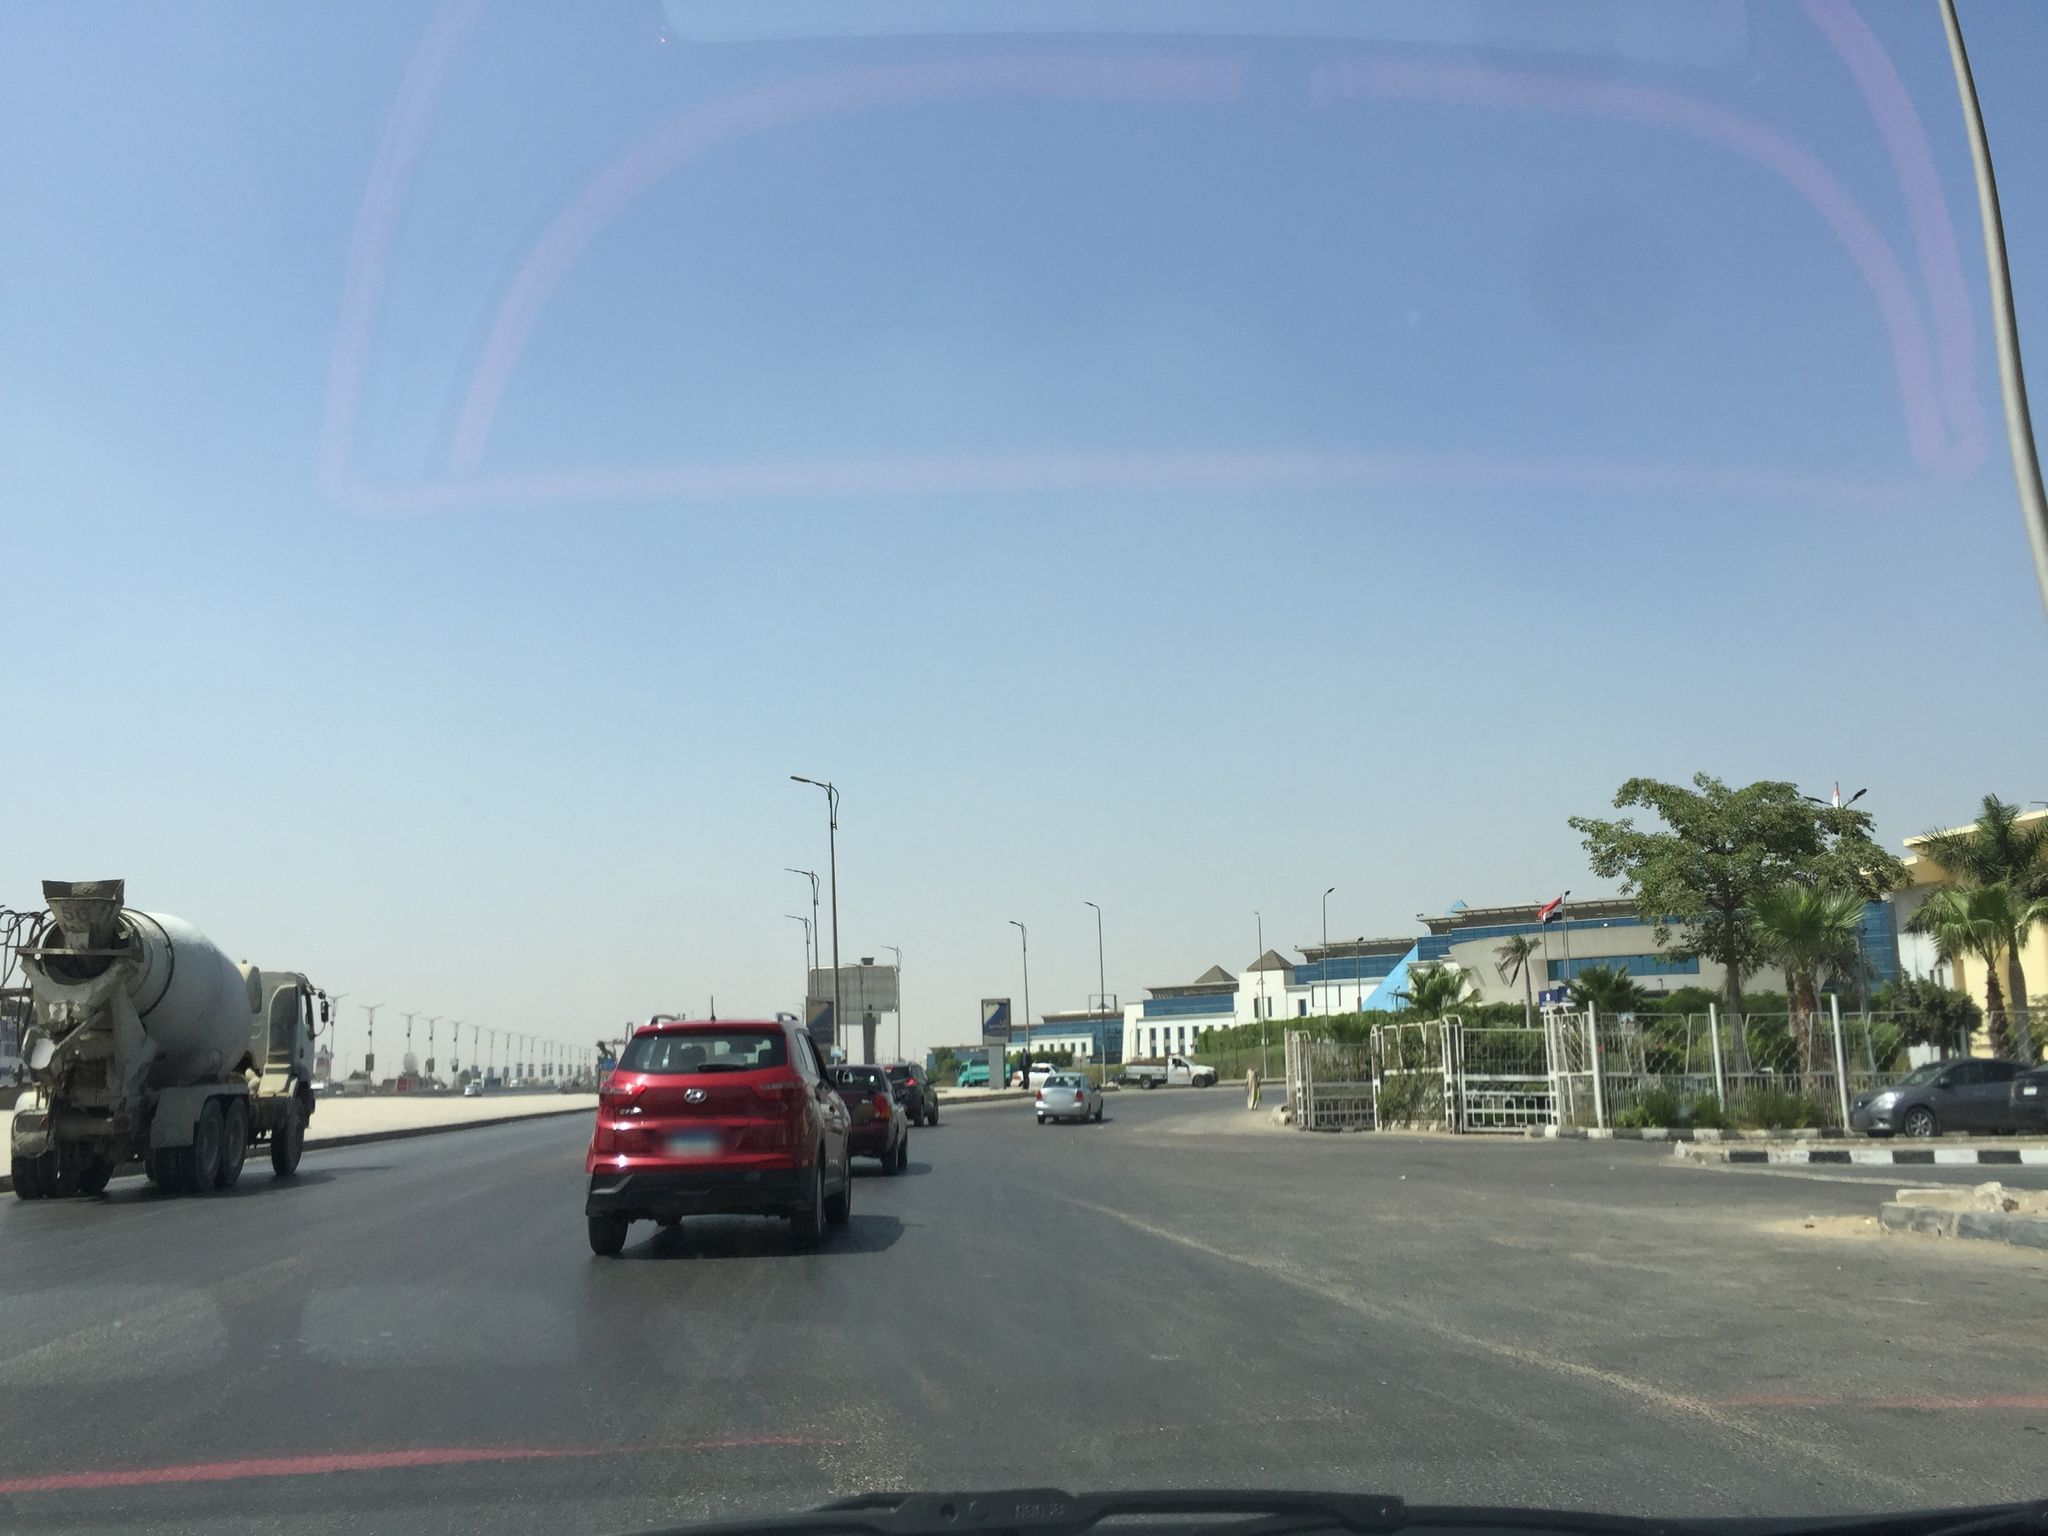car: (581, 1008, 853, 1252), (1846, 1055, 2035, 1141), (822, 1062, 910, 1175), (874, 1060, 942, 1128), (1034, 1071, 1105, 1123)
truck: (0, 878, 332, 1192), (1126, 1054, 1218, 1091), (955, 1058, 1013, 1089)
